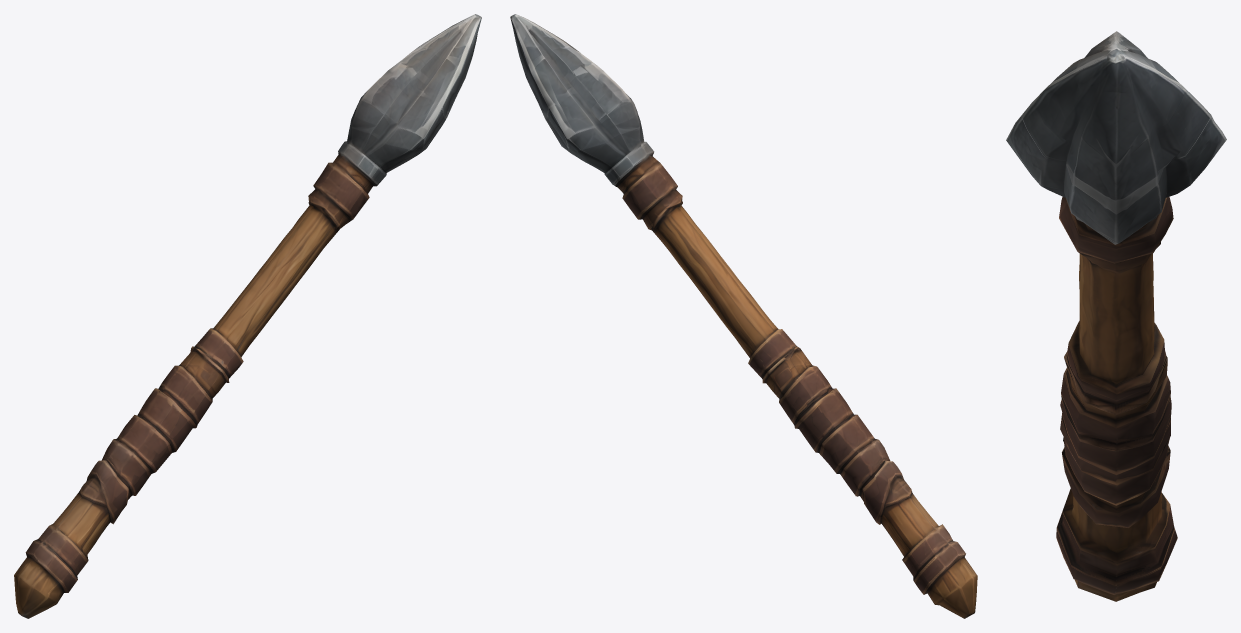
Rendered from Item_Javelin.fbx.
3 views of the same model, side by side, from view 1: azimuth 30°, elevation 25°; view 2: azimuth 150°, elevation 25°; view 3: azimuth 270°, elevation 25° (orthographic). The views are drawn at different scales.
Visible parts, largest first — view 1: texture_mapping; view 2: texture_mapping; view 3: texture_mapping.
Part boxes in pixels (x1=…): texture_mapping: x1=14, y1=14, x2=481, y2=618; texture_mapping: x1=510, y1=14, x2=977, y2=618; texture_mapping: x1=1006, y1=31, x2=1226, y2=601.
Bounding box in the file's own units: 0.9853 × 0.2037 × 1.
1 material, 1 textured.
